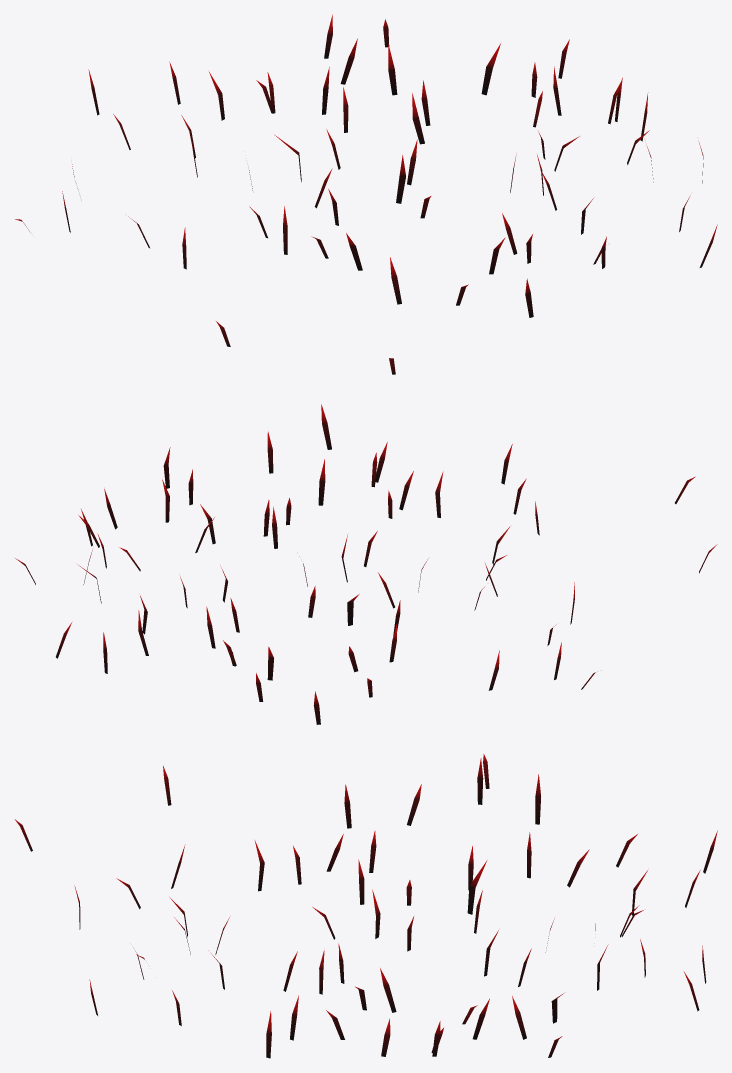
File: PatchGrass05.fbx
3 views of the same model, one above another, from view 1: azimuth 30°, elevation 25°; view 2: azimuth 150°, elevation 25°; view 3: azimuth 270°, elevation 25° (orthographic). The views are drawn at different scales.
Visible parts, largest first — view 1: PatchGrass05_LOD0; view 2: PatchGrass05_LOD0; view 3: PatchGrass05_LOD0.
Boxes of the visible parts, x1,y1,x2,y2 form: PatchGrass05_LOD0: [15, 14, 717, 374]; PatchGrass05_LOD0: [15, 404, 717, 724]; PatchGrass05_LOD0: [14, 754, 717, 1058].
Bounding box in the file's own units: 462 × 38.01 × 478.
